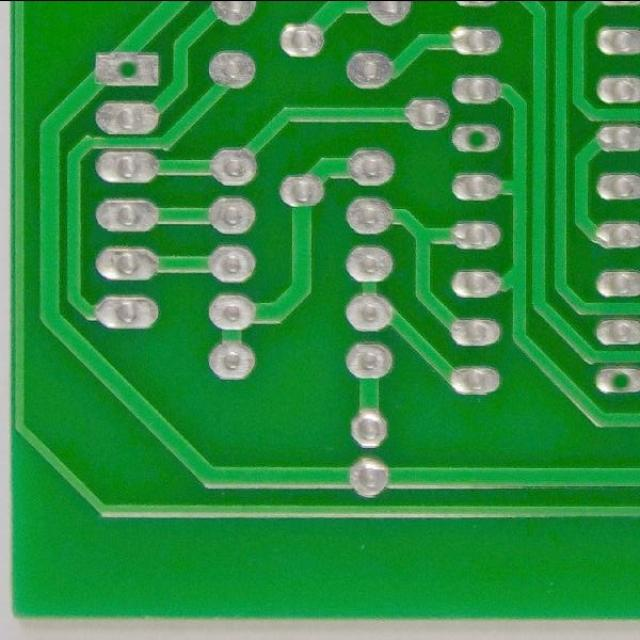Missing_Hole: (101, 46, 157, 91), (448, 119, 505, 157), (592, 363, 640, 399)
